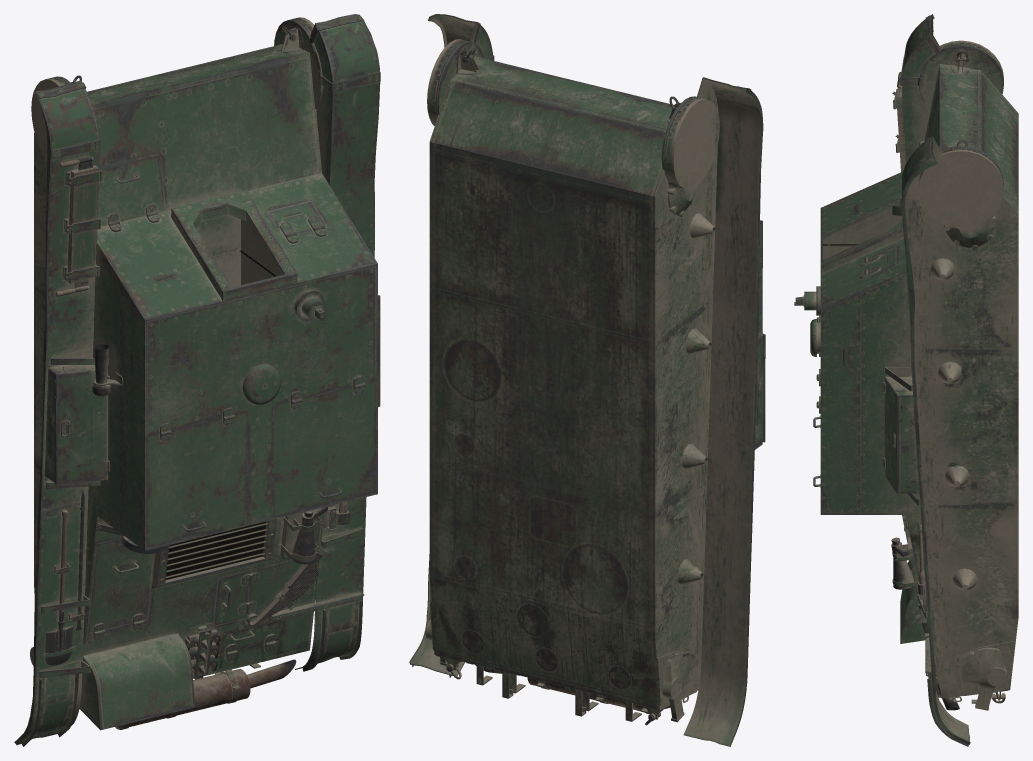
The model's file is Hull.glb.
The picture shows the model from 3 angles, left to right: view 1: azimuth 30°, elevation 25°; view 2: azimuth 150°, elevation 25°; view 3: azimuth 270°, elevation 25°; orthographic projection. The views are drawn at different scales.
Parts seen in each view (by area): view 1: set_0_group_0; view 2: set_0_group_0; view 3: set_0_group_0.
Part boxes in pixels (x1=…): set_0_group_0: x1=14, y1=14, x2=380, y2=746; set_0_group_0: x1=409, y1=14, x2=765, y2=746; set_0_group_0: x1=794, y1=14, x2=1018, y2=746.
Size of the model in its own units: 2.38 by 4.6 by 1.57.
1 material, 1 textured.
